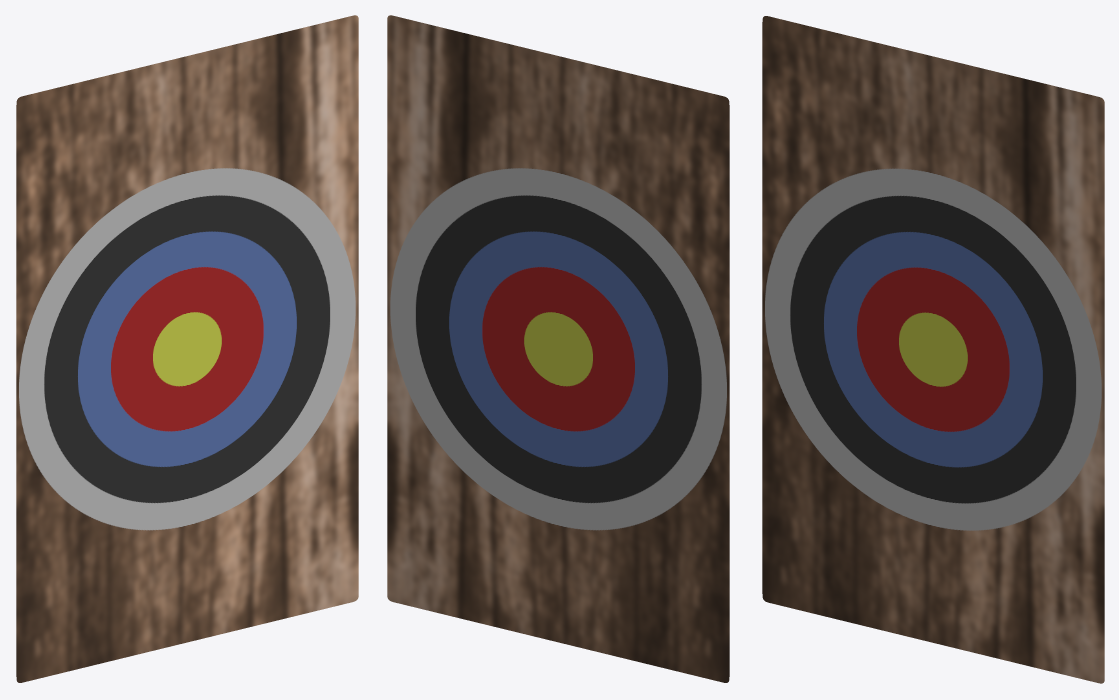
Rendered from target.fbx.
3 views of the same model, side by side, from view 1: azimuth 30°, elevation 25°; view 2: azimuth 150°, elevation 25°; view 3: azimuth 330°, elevation 25° (orthographic).
Visible parts, largest first — view 1: target.010, target.008, target.007, target.009, target.003, target.013, target.011, target.012, target.004, target.014, target.006, target.001 (+2 smaller); view 2: target.010, target.008, target.007, target.009, target.003, target.013, target.011, target.012, target.004, target.014, target.006, target.001 (+2 smaller); view 3: target.010, target.008, target.007, target.009, target.003, target.013, target.011, target.012, target.004, target.014, target.006, target.001 (+2 smaller).
Part boxes in pixels (left/top/right/bottom): target.010: left=17, top=472, right=356, bottom=682; target.008: left=153, top=206, right=358, bottom=471; target.007: left=114, top=206, right=283, bottom=471; target.009: left=153, top=415, right=358, bottom=600; target.003: left=114, top=46, right=283, bottom=233; target.013: left=16, top=234, right=152, bottom=470; target.011: left=16, top=471, right=152, bottom=680; target.012: left=16, top=328, right=152, bottom=498; target.004: left=230, top=15, right=357, bottom=205; target.014: left=16, top=102, right=113, bottom=322; target.006: left=283, top=181, right=358, bottom=413; target.001: left=16, top=71, right=123, bottom=233; target.010: left=389, top=472, right=728, bottom=682; target.008: left=387, top=206, right=592, bottom=471; target.007: left=462, top=206, right=631, bottom=471; target.009: left=387, top=415, right=592, bottom=600; target.003: left=462, top=46, right=631, bottom=233; target.013: left=593, top=234, right=729, bottom=470; target.011: left=593, top=471, right=729, bottom=680; target.012: left=593, top=328, right=729, bottom=498; target.004: left=388, top=15, right=515, bottom=205; target.014: left=632, top=102, right=729, bottom=322; target.006: left=387, top=181, right=462, bottom=413; target.001: left=622, top=71, right=729, bottom=233; target.010: left=763, top=455, right=1102, bottom=683; target.008: left=899, top=254, right=1104, bottom=498; target.007: left=860, top=199, right=1029, bottom=454; target.009: left=900, top=455, right=1104, bottom=683; target.003: left=860, top=67, right=1029, bottom=252; target.013: left=762, top=199, right=898, bottom=454; target.011: left=762, top=415, right=898, bottom=598; target.012: left=762, top=245, right=898, bottom=455; target.004: left=976, top=67, right=1103, bottom=252; target.014: left=762, top=19, right=859, bottom=239; target.006: left=1029, top=253, right=1104, bottom=497; target.001: left=762, top=16, right=869, bottom=197.
Size of the model in its own units: 210 by 342 by 1.49e-05.
Materials: 1 (1 with a texture image).
